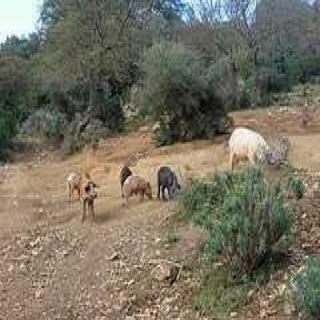Pig: (224, 114, 274, 182), (122, 173, 165, 213), (78, 169, 99, 218), (153, 158, 174, 198), (121, 160, 128, 178)
